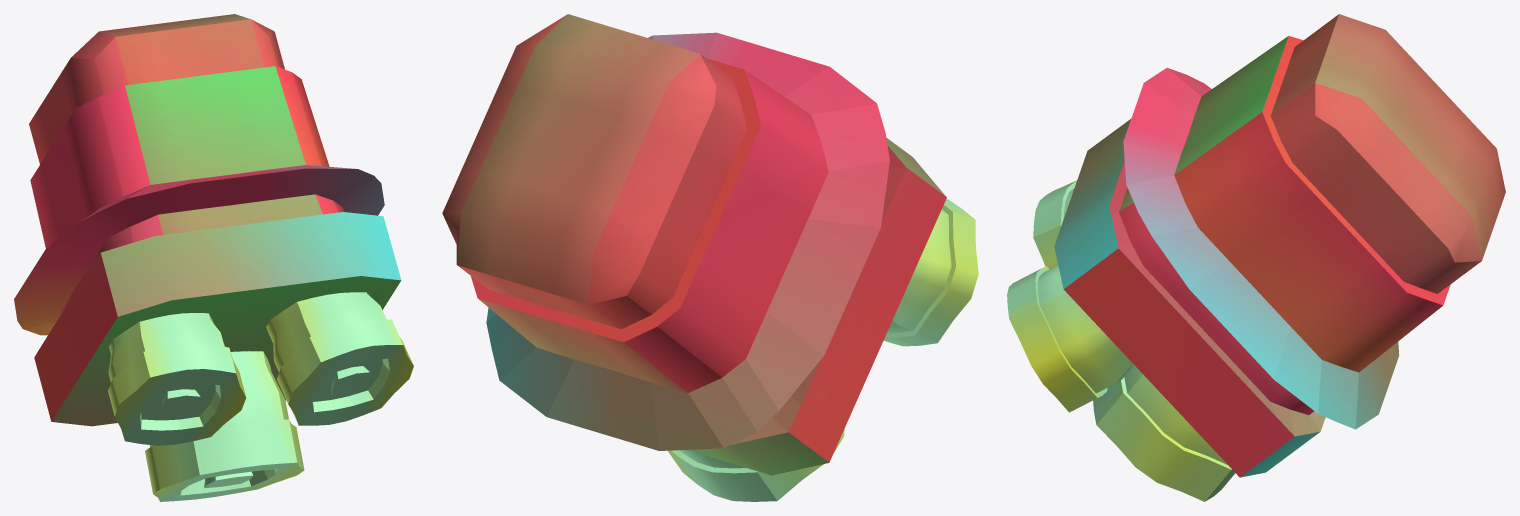
Rendered from ship.glb.
3 views of the same model, side by side, from view 1: azimuth 30°, elevation 25°; view 2: azimuth 150°, elevation 25°; view 3: azimuth 270°, elevation 25° (orthographic). The views are drawn at different scales.
Parts seen in each view (by area): view 1: amogus_spaceship; view 2: amogus_spaceship; view 3: amogus_spaceship.
Boxes of the visible parts, box(x1,y1,x2,y2) form: amogus_spaceship: box(14, 14, 413, 501); amogus_spaceship: box(442, 14, 978, 501); amogus_spaceship: box(1007, 14, 1505, 501).
Bounding box in the file's own units: 6.62 × 8.4 × 8.39.
Materials: 2 (2 with a texture image).
